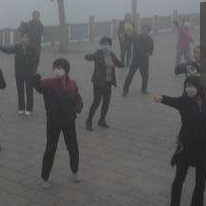person: (29, 56, 84, 189), (156, 76, 205, 204), (84, 37, 125, 130), (1, 33, 42, 117), (123, 25, 153, 95), (174, 45, 206, 91), (171, 18, 190, 79), (116, 11, 134, 66), (19, 11, 42, 47)
